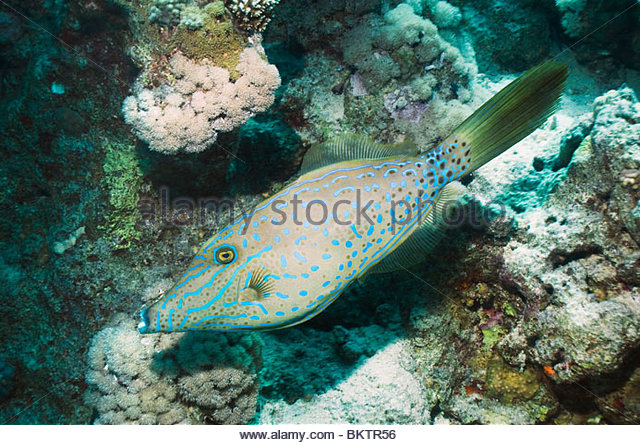Aluterus_scriptus: (132, 60, 571, 343)
